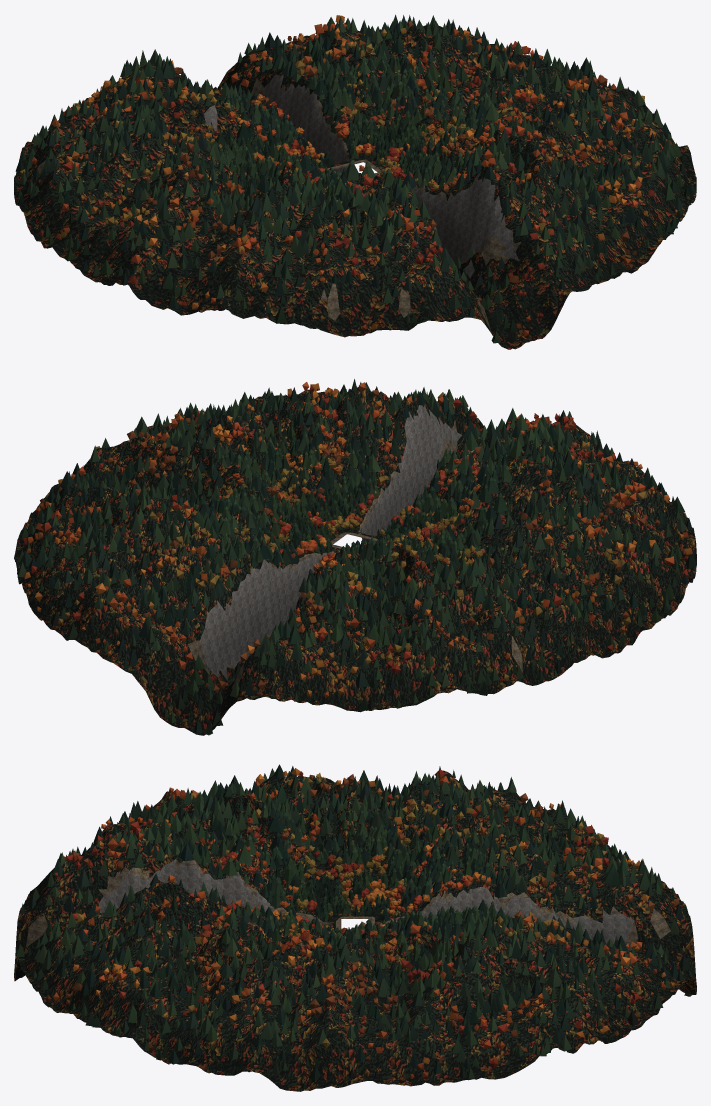
File: backdrop_near_rect_desert_autumn.glb
The picture shows the model from 3 angles, top to bottom: view 1: azimuth 30°, elevation 25°; view 2: azimuth 150°, elevation 25°; view 3: azimuth 270°, elevation 25°; orthographic projection.
Visible parts, largest first — view 1: near_land_S, near_land_W, trees_land_W_0, trees_land_S_0, trees_land_E_0, trees_land_N_0, near_land_E, near_land_N; view 2: near_land_N, near_land_W, trees_land_N_0, trees_land_W_0, trees_land_E_0, trees_land_S_0, near_land_E, near_land_S; view 3: near_land_E, trees_land_E_0, near_land_S, trees_land_W_0, near_land_N, trees_land_N_0, trees_land_S_0, near_land_W.
Boxes of the visible parts, x1,y1,x2,y2 form: near_land_S: [266, 124, 683, 349]; near_land_W: [14, 101, 329, 318]; trees_land_W_0: [15, 93, 337, 312]; trees_land_S_0: [272, 120, 681, 343]; trees_land_E_0: [363, 15, 696, 215]; trees_land_N_0: [31, 14, 438, 165]; near_land_E: [360, 25, 696, 216]; near_land_N: [26, 24, 429, 173]; near_land_N: [26, 510, 445, 735]; near_land_W: [379, 460, 696, 694]; trees_land_N_0: [35, 502, 442, 735]; trees_land_W_0: [378, 456, 696, 695]; trees_land_E_0: [17, 387, 349, 587]; trees_land_S_0: [284, 379, 684, 536]; near_land_E: [14, 396, 353, 593]; near_land_S: [274, 386, 672, 542]; near_land_E: [113, 910, 595, 1091]; trees_land_E_0: [116, 903, 591, 1089]; near_land_S: [14, 812, 340, 1035]; trees_land_W_0: [118, 764, 566, 915]; near_land_N: [375, 814, 696, 1043]; trees_land_N_0: [378, 806, 694, 1035]; trees_land_S_0: [17, 801, 333, 1034]; near_land_W: [141, 770, 567, 920].
Size of the model in its own units: 577 by 172 by 576.
Materials: 4 (3 with a texture image).
